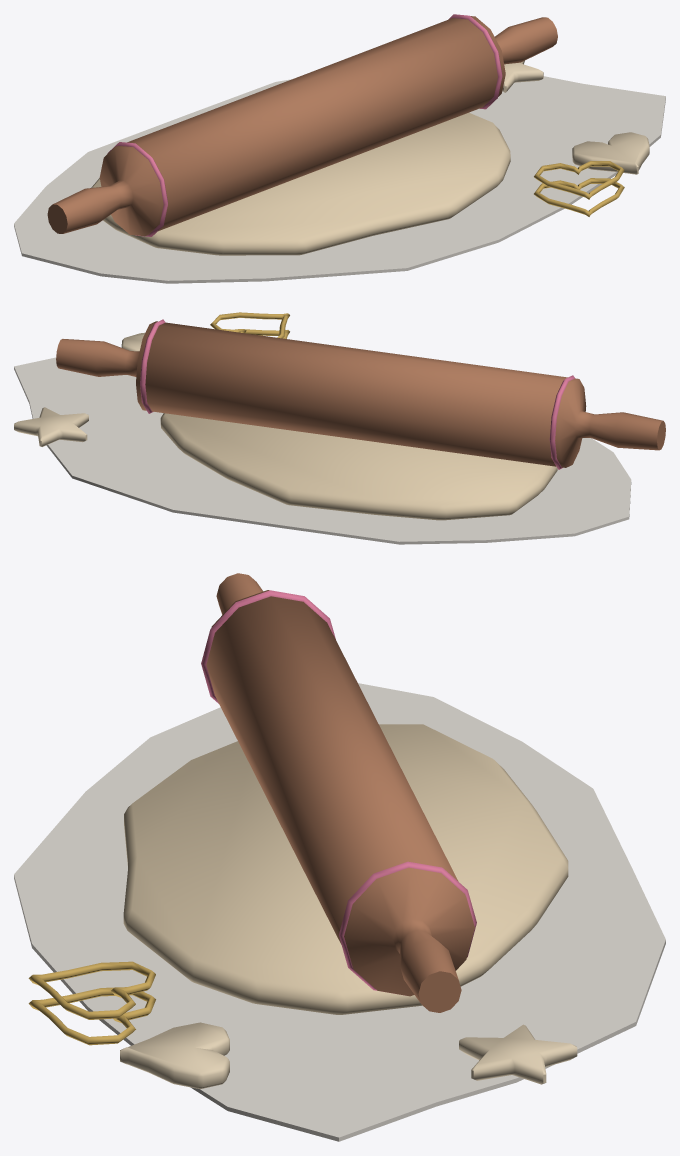
File: rolling_pin_flour.glb
3 views of the same model, one above another, from view 1: azimuth 30°, elevation 25°; view 2: azimuth 150°, elevation 25°; view 3: azimuth 270°, elevation 25° (orthographic). The views are drawn at different scales.
Visible parts, largest first — view 1: rolling_pin_flour; view 2: rolling_pin_flour; view 3: rolling_pin_flour.
Boxes of the visible parts, <box> form: rolling_pin_flour: <box>14,14,665,283</box>; rolling_pin_flour: <box>14,312,665,544</box>; rolling_pin_flour: <box>14,573,665,1141</box>.
Size of what is drawn, in the model's own units: 0.5 by 0.08 by 0.3.
